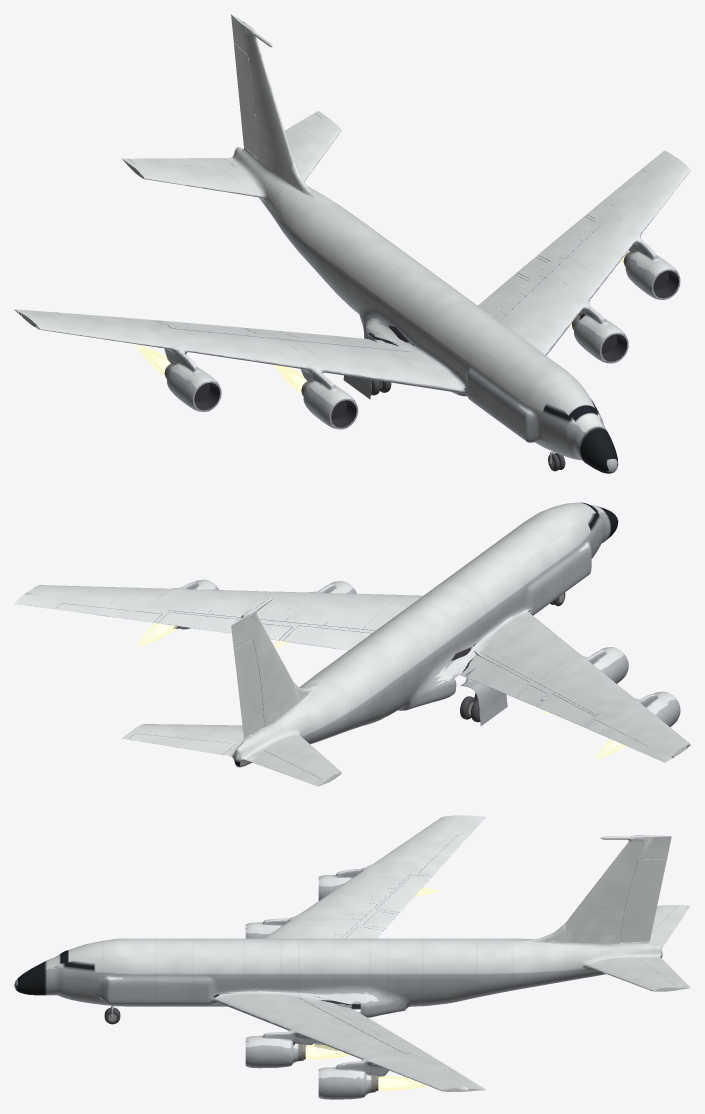
The picture shows the model from 3 angles, top to bottom: view 1: azimuth 30°, elevation 25°; view 2: azimuth 150°, elevation 25°; view 3: azimuth 270°, elevation 25°; orthographic projection. The views are drawn at different scales.
Parts seen in each view (by area): view 1: fsim:section:centre, fsim:section:right-wing, fsim:section:left-wing, fsim:section:tail, fsim:section:nose, fsim:flaps (×2), fsim:rudder, fsim:elevator; view 2: fsim:section:centre, fsim:section:tail, fsim:section:left-wing, fsim:section:right-wing, fsim:section:nose, fsim:flaps (×4), fsim:rudder, fsim:elevator (×2), fsim:aileron (×2), Right Main Gear door, fsim:afterburner:2; view 3: fsim:section:centre, fsim:section:tail, fsim:section:nose, fsim:section:left-wing, fsim:section:right-wing, fsim:rudder, fsim:flaps (×2), fsim:elevator (×2), fsim:aileron, fsim:afterburner:2, fsim:afterburner:0.
Part boxes in pixels (x1,y1,x2,y2): fsim:section:centre: (164,184,680,429); fsim:section:right-wing: (14,309,466,394); fsim:section:left-wing: (492,150,690,355); fsim:section:tail: (122,14,341,230); fsim:section:nose: (468,337,618,473); fsim:flaps (×2): (478,216,594,315); fsim:rudder: (234,43,257,158); fsim:elevator: (128,158,235,167); fsim:section:centre: (175,529,680,739); fsim:section:tail: (122,597,341,786); fsim:section:left-wing: (14,585,423,640); fsim:section:right-wing: (451,609,690,762); fsim:section:nose: (493,502,618,612); fsim:flaps (×4): (158,612,594,727); fsim:rudder: (234,639,264,738); fsim:elevator (×2): (128,733,321,784); fsim:aileron (×2): (56,603,646,752); Right Main Gear door: (460,667,507,725); fsim:afterburner:2: (136,623,177,646); fsim:section:centre: (158,868,549,1099); fsim:section:tail: (540,835,690,991); fsim:section:nose: (14,938,207,1006); fsim:section:left-wing: (212,990,485,1091); fsim:section:right-wing: (264,815,485,938); fsim:rudder: (620,859,666,942); fsim:flaps (×2): (316,875,431,1027); fsim:elevator (×2): (639,907,688,986); fsim:aileron: (418,833,470,875); fsim:afterburner:2: (378,1075,428,1090); fsim:afterburner:0: (305,1044,350,1059).
Bounding box in the file's own units: 39.9 × 12.78 × 41.79.
Materials: 11 (1 with a texture image).
